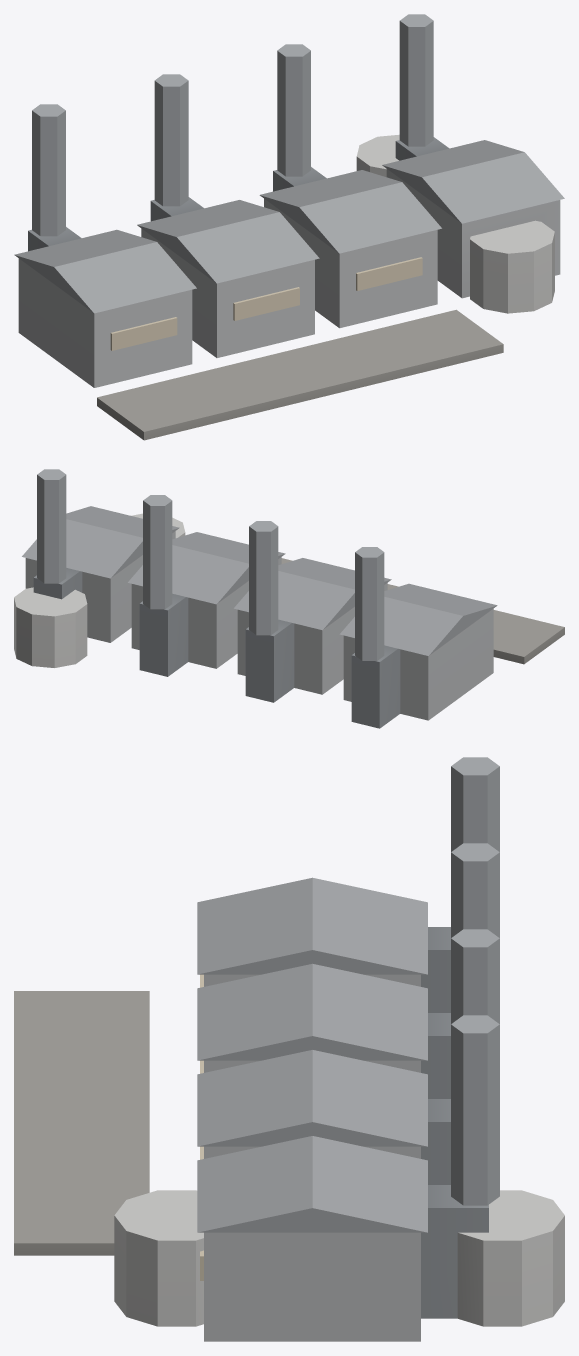
The model's file is plant_peaker_l3.glb.
3 views of the same model, one above another, from view 1: azimuth 30°, elevation 25°; view 2: azimuth 150°, elevation 25°; view 3: azimuth 270°, elevation 25° (orthographic). The views are drawn at different scales.
Visible parts, largest first — view 1: plant_peaker_l3; view 2: plant_peaker_l3; view 3: plant_peaker_l3.
Part boxes in pixels (box(x1,y1,x2,y2)): plant_peaker_l3: box(14, 14, 564, 440); plant_peaker_l3: box(14, 469, 564, 728); plant_peaker_l3: box(14, 757, 564, 1341).
Size of the model in its own units: 59.3 by 23 by 40.6.
